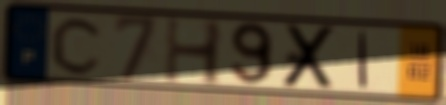7: (111, 12, 161, 84)
9: (229, 20, 276, 88)
C: (49, 14, 107, 77)
H: (162, 14, 226, 89)
I: (356, 29, 370, 91)
X: (279, 22, 341, 90)
